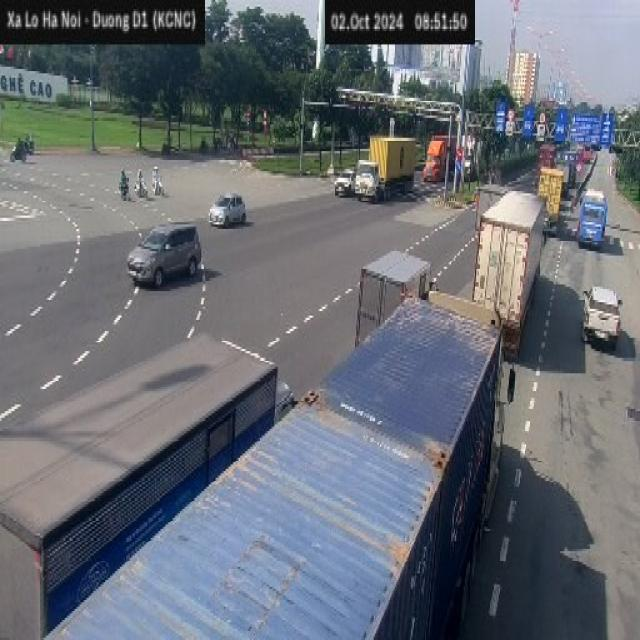car: (126, 222, 202, 287), (581, 278, 624, 359), (208, 191, 246, 227)
container-truck: (38, 253, 510, 640)
truck: (2, 332, 297, 640), (466, 186, 551, 362), (354, 246, 438, 344)
